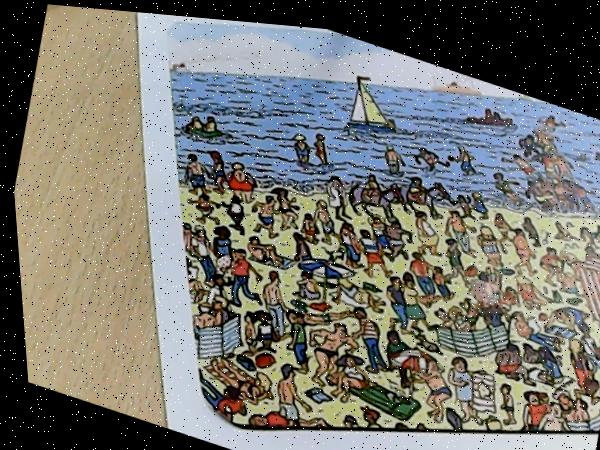waldo: (462, 268, 496, 297)
